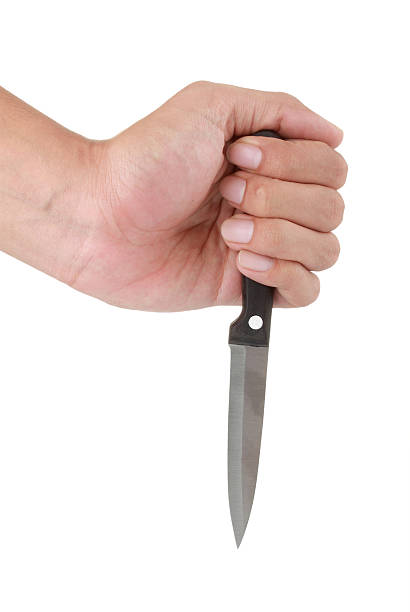knife: (223, 273, 278, 550)
